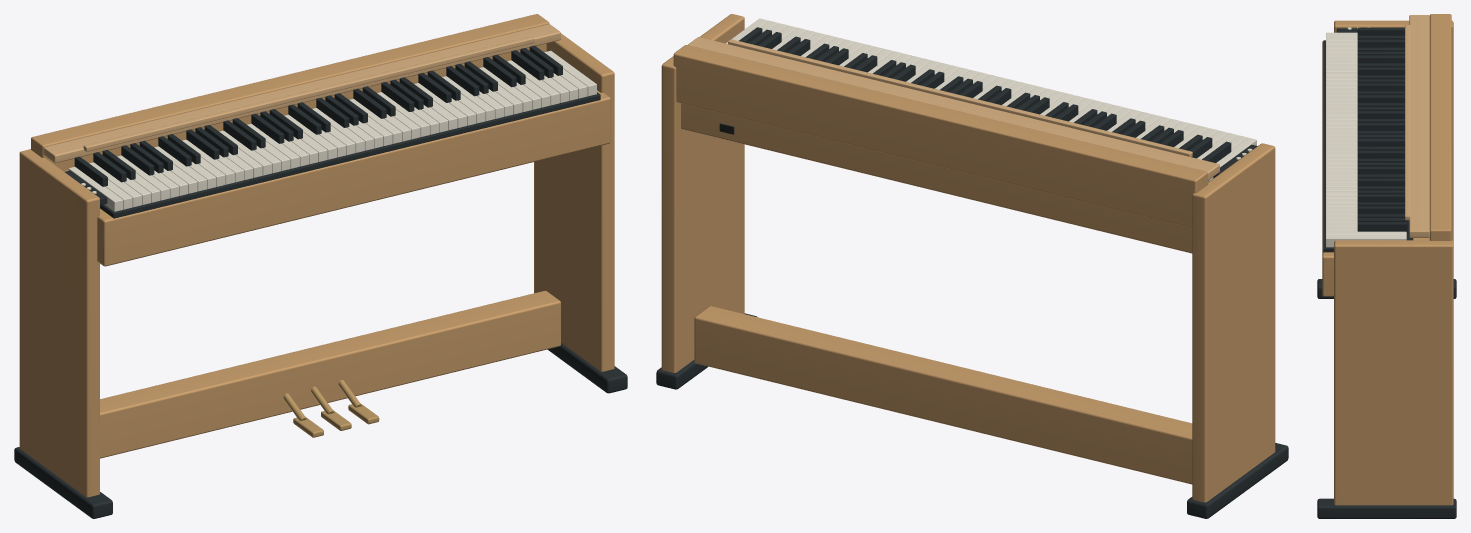
File: compact-digital-piano.glb
The picture shows the model from 3 angles, left to right: view 1: azimuth 30°, elevation 25°; view 2: azimuth 150°, elevation 25°; view 3: azimuth 270°, elevation 25°; orthographic projection. The views are drawn at different scales.
Visible parts, largest first — view 1: catalog_surface_RealismUV, catalog_surface_UVMap; view 2: catalog_surface_RealismUV, catalog_surface_UVMap; view 3: catalog_surface_RealismUV, catalog_surface_UVMap.
Part boxes in pixels (x1,y1,x2,y2): catalog_surface_RealismUV: (19, 14, 614, 497); catalog_surface_UVMap: (14, 45, 627, 518); catalog_surface_RealismUV: (661, 14, 1275, 502); catalog_surface_UVMap: (656, 27, 1288, 518); catalog_surface_RealismUV: (1322, 14, 1453, 505); catalog_surface_UVMap: (1317, 27, 1456, 518).
Size of the model in its own units: 1.36 by 0.79 by 0.35.
